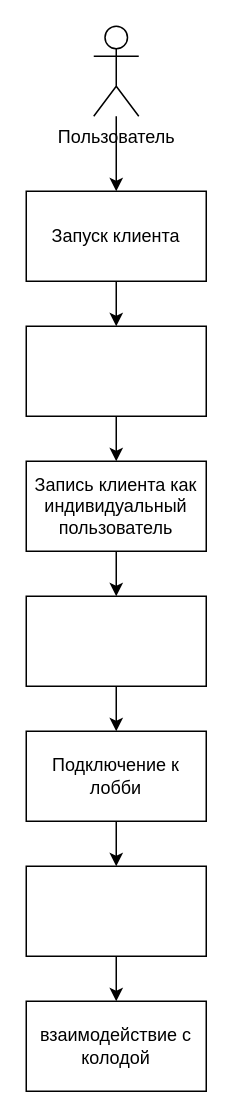
Some shapes in this 233 by 1118 pixel diagram are drawn without their labels. Here are the shapes that lost their labels. From the top down, the centre of each, then its label:
At pixel 115 370: "Подключение к серверу".
At pixel 115 640: "Создание никнейма".
At pixel 115 910: "получение колоды от сервера".
